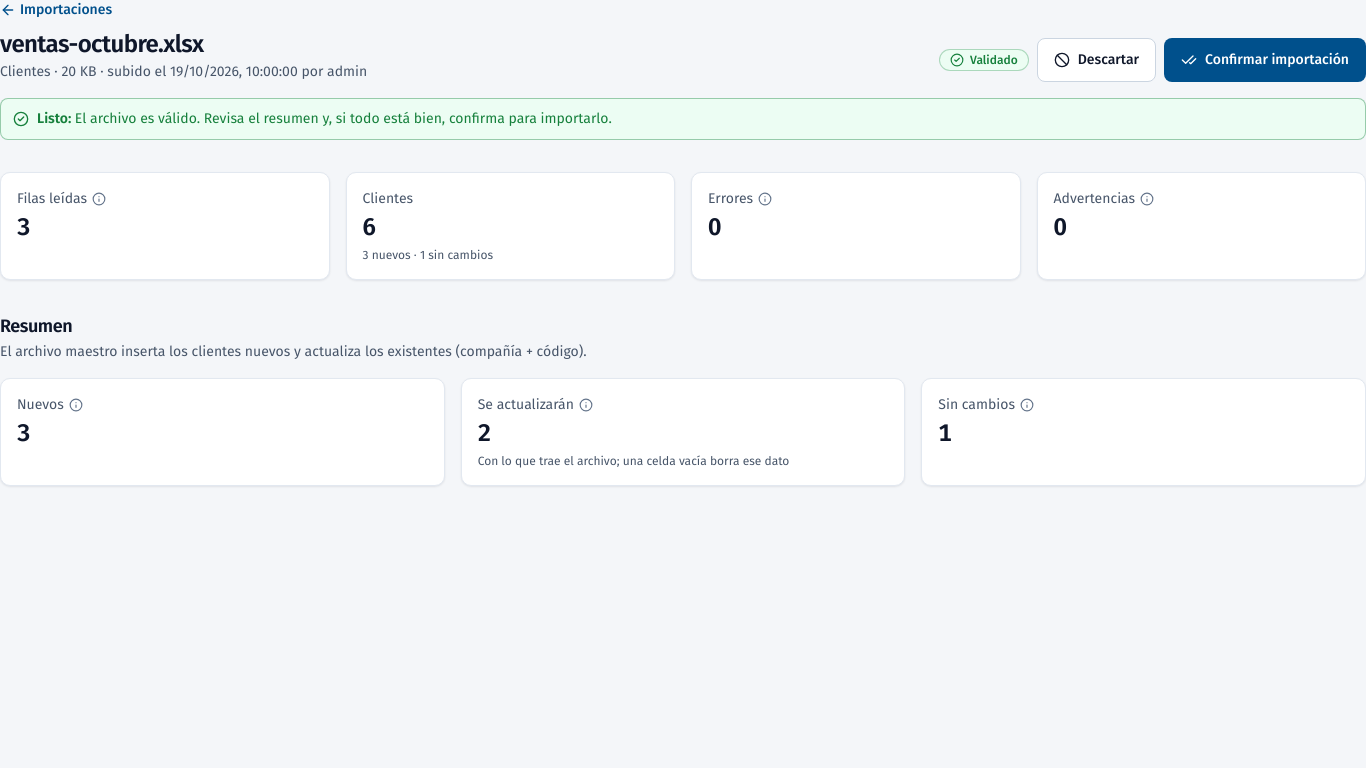
Test: importaciones › un lote de clientes muestra nuevos, actualizados y sin cambios, y su confirmación lo explica
Expected: the text "Se actualizarán" is shown, left=478, top=396, right=594, bottom=413
Expected: the text "Nuevos" shows "3", left=17, top=419, right=30, bottom=447
Click the button "Confirmar importación" at (1265, 60), box left=1164, top=38, right=1365, bottom=82
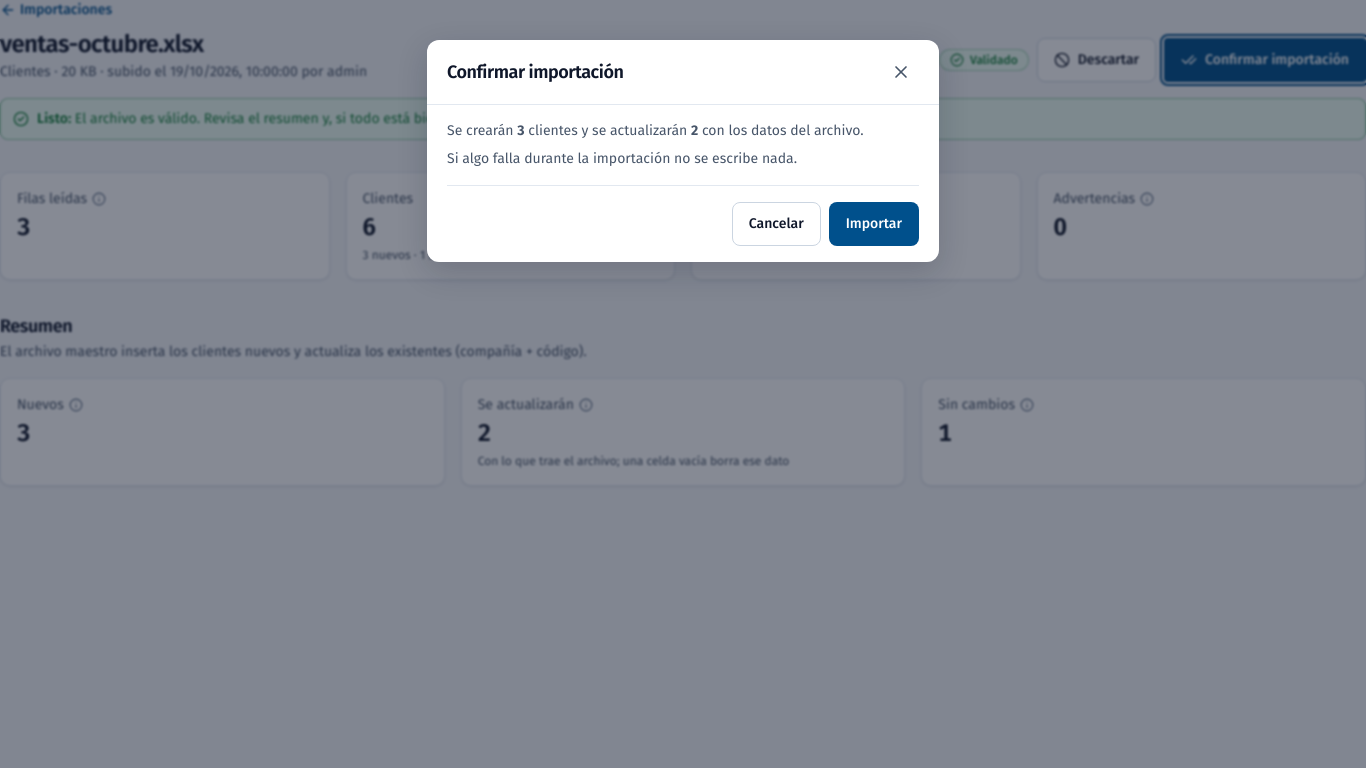
Expected: the dialog "Confirmar importación" shows "Se crearán 3 clientes y se actualizarán 2", left=427, top=40, right=939, bottom=262
